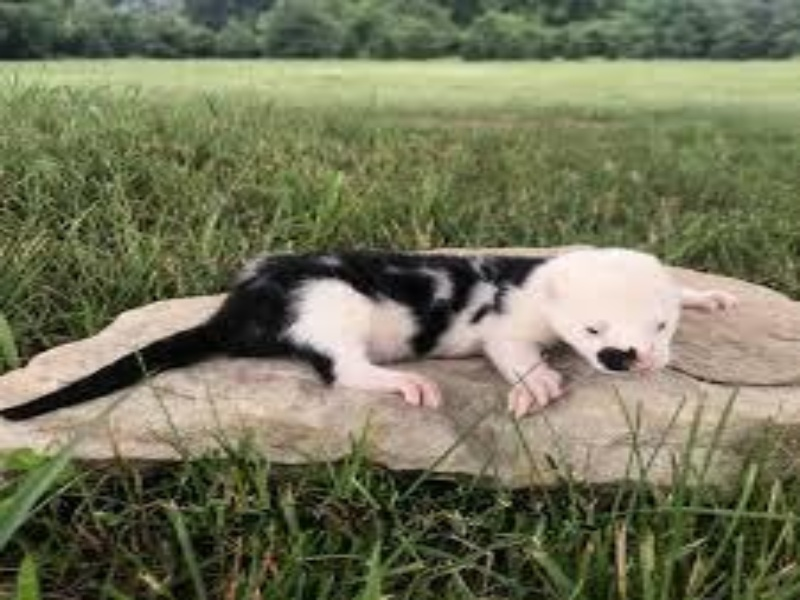minkish: (1, 244, 742, 426)
